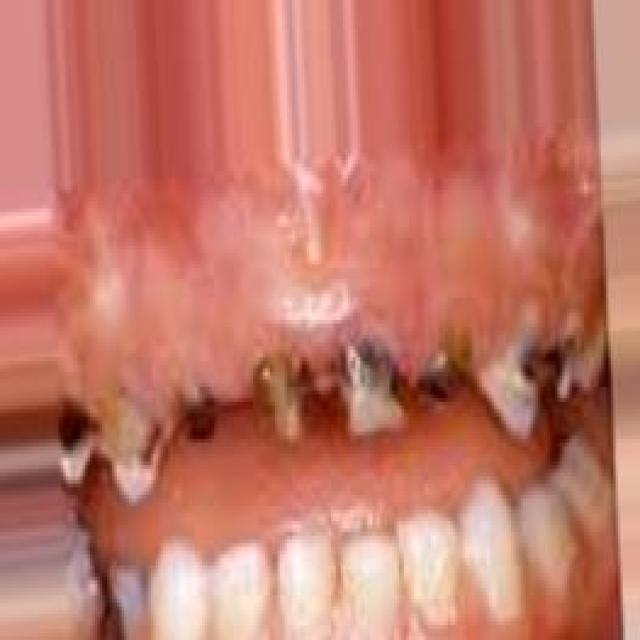caries: (94, 390, 174, 508), (242, 340, 324, 454), (328, 331, 408, 443), (485, 298, 547, 434), (173, 369, 238, 464), (411, 329, 476, 420), (547, 313, 594, 412), (50, 396, 97, 490)
